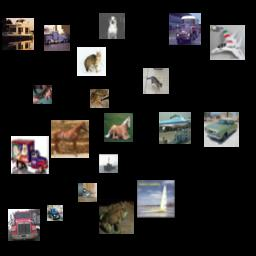airplane: (210, 25, 245, 60), (159, 112, 191, 144)
automobile: (204, 112, 239, 147), (47, 205, 63, 221)
bird: (78, 183, 97, 202)
cat: (77, 47, 106, 76), (143, 68, 169, 94), (33, 85, 52, 104)
dog: (99, 13, 125, 39)
frog: (99, 199, 134, 234), (90, 89, 109, 108)
ship: (137, 180, 175, 218), (2, 18, 34, 50), (99, 154, 118, 173)
truck: (11, 136, 49, 174), (169, 13, 201, 45), (8, 209, 40, 241), (44, 25, 70, 51)
